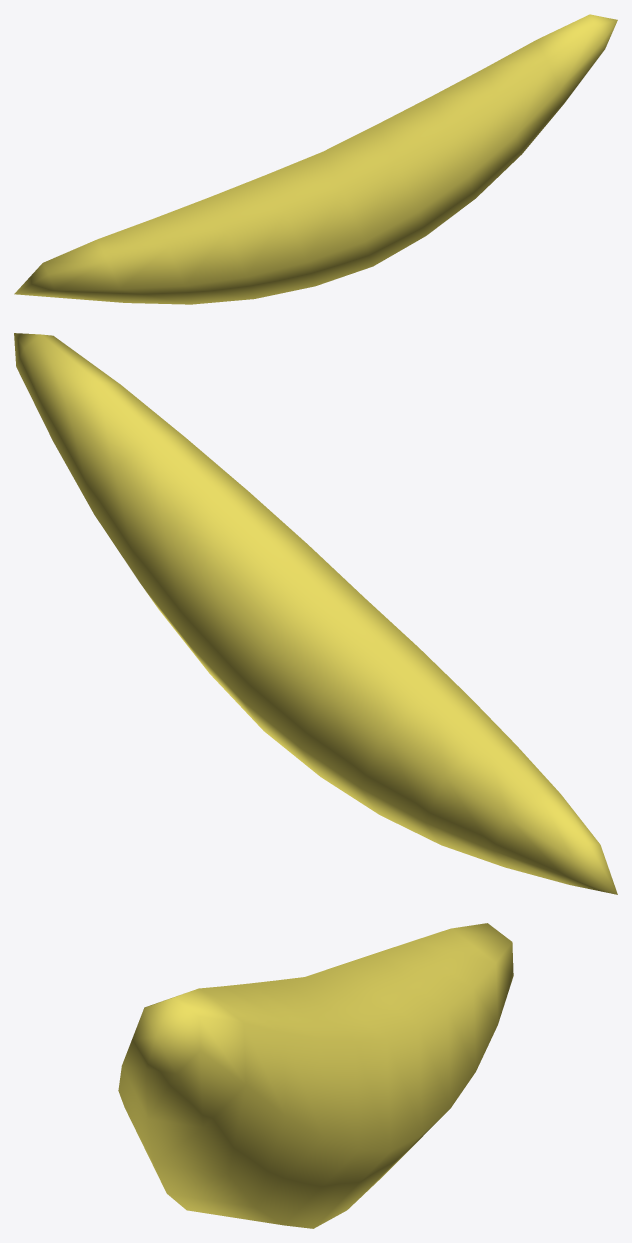
Rendered from BananaWhole.fbx.
3 views of the same model, one above another, from view 1: azimuth 30°, elevation 25°; view 2: azimuth 150°, elevation 25°; view 3: azimuth 270°, elevation 25° (orthographic). The views are drawn at different scales.
Parts seen in each view (by area): view 1: Mesh4 banana1 bowl_of_fruit1 Model; view 2: Mesh4 banana1 bowl_of_fruit1 Model; view 3: Mesh4 banana1 bowl_of_fruit1 Model.
Boxes of the visible parts, bbox=[...] form: Mesh4 banana1 bowl_of_fruit1 Model: bbox=[14, 14, 617, 304]; Mesh4 banana1 bowl_of_fruit1 Model: bbox=[14, 333, 617, 894]; Mesh4 banana1 bowl_of_fruit1 Model: bbox=[118, 923, 513, 1228].
Bounding box in the file's own units: 2536 × 1102 × 839.
